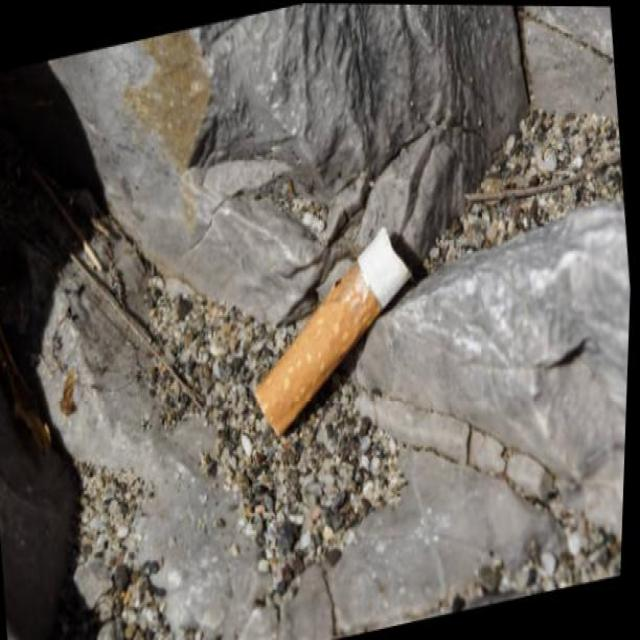cigarette: (239, 214, 432, 446)
